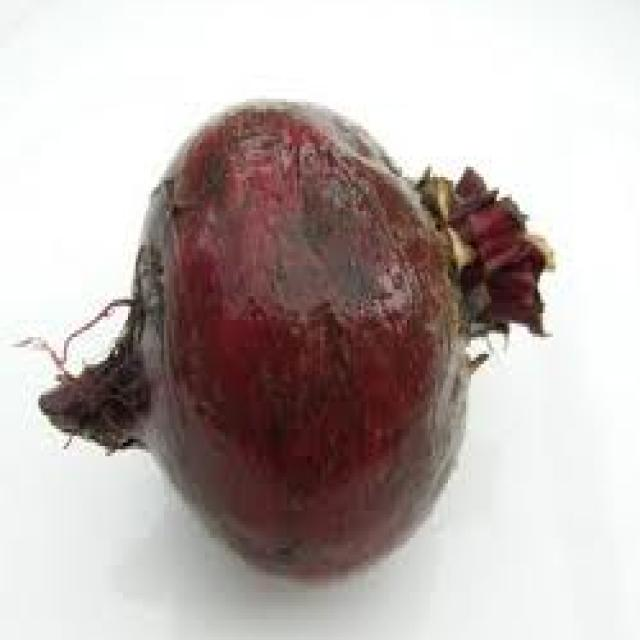beetroot: (34, 72, 568, 592)
